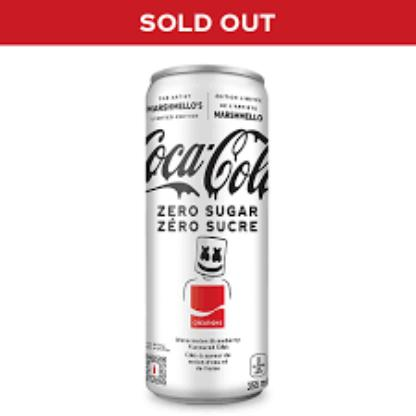Tin_Can: (140, 66, 280, 408)
